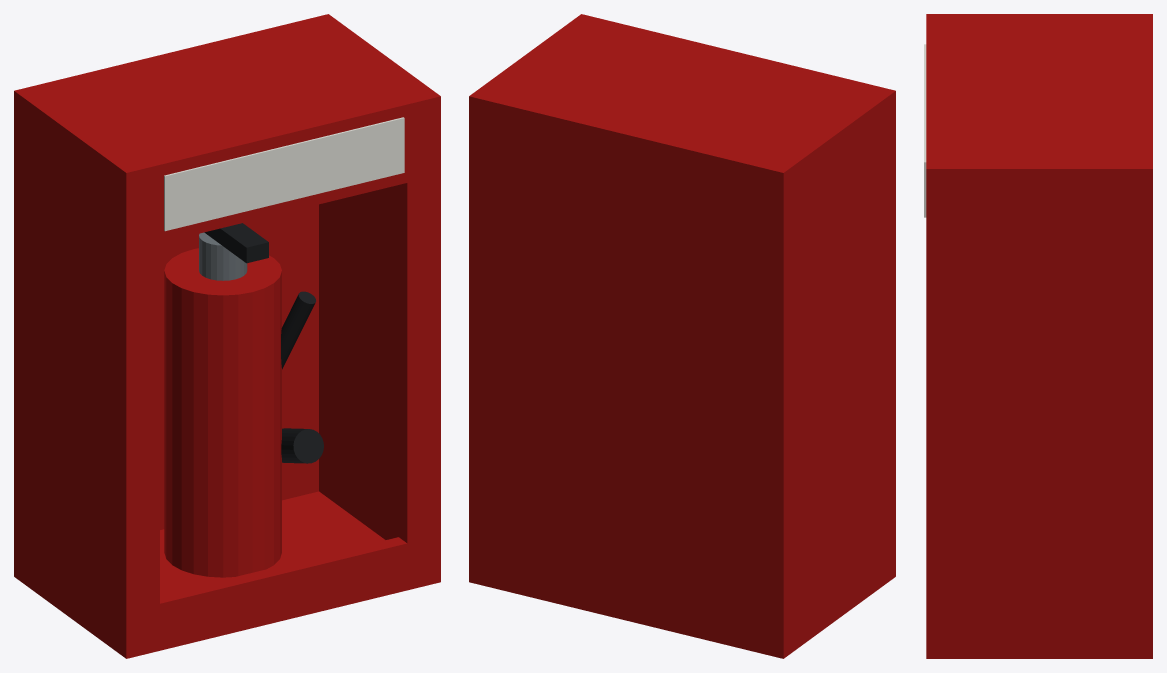
The model's file is SM_FireExtinguisherCabinet_Realistic.obj.
3 views of the same model, side by side, from view 1: azimuth 30°, elevation 25°; view 2: azimuth 150°, elevation 25°; view 3: azimuth 270°, elevation 25° (orthographic).
Visible parts, largest first — view 1: SideL, TopPanel, SideR, Tank, Back, SignPlate, BottomPanel, FrameR, FrameB, FrameL, FrameT, TankCap (+3 smaller); view 2: Back, SideL, TopPanel, SideR, BottomPanel, FrameL, FrameT; view 3: SideR, TopPanel, Back, BottomPanel, FrameR, SideL, FrameT, SignPlate.
Boxes of the visible parts, left/top/right/bottom form: SideL: left=14, top=87, right=148, bottom=658; TopPanel: left=14, top=14, right=440, bottom=196; SideR: left=306, top=14, right=440, bottom=587; Tank: left=164, top=248, right=281, bottom=577; Back: left=14, top=14, right=341, bottom=585; SignPlate: left=164, top=117, right=404, bottom=231; BottomPanel: left=14, top=491, right=440, bottom=657; FrameR: left=398, top=95, right=440, bottom=590; FrameB: left=123, top=535, right=440, bottom=658; FrameL: left=117, top=159, right=159, bottom=658; FrameT: left=118, top=95, right=440, bottom=247; TankCap: left=199, top=232, right=247, bottom=280; Back: left=469, top=87, right=796, bottom=658; SideL: left=761, top=86, right=895, bottom=658; TopPanel: left=469, top=14, right=895, bottom=194; SideR: left=469, top=14, right=603, bottom=587; BottomPanel: left=469, top=555, right=895, bottom=658; FrameL: left=856, top=85, right=895, bottom=581; FrameT: left=575, top=16, right=895, bottom=165; SideR: left=926, top=157, right=1152, bottom=658; TopPanel: left=926, top=14, right=1152, bottom=192; Back: left=1126, top=14, right=1152, bottom=658; BottomPanel: left=926, top=635, right=1152, bottom=658; FrameR: left=926, top=152, right=943, bottom=658; SideL: left=926, top=14, right=1152, bottom=24; FrameT: left=926, top=14, right=943, bottom=247; SignPlate: left=924, top=44, right=926, bottom=217.
Bounding box in the file's own units: 0.42 × 0.62 × 0.2625.
